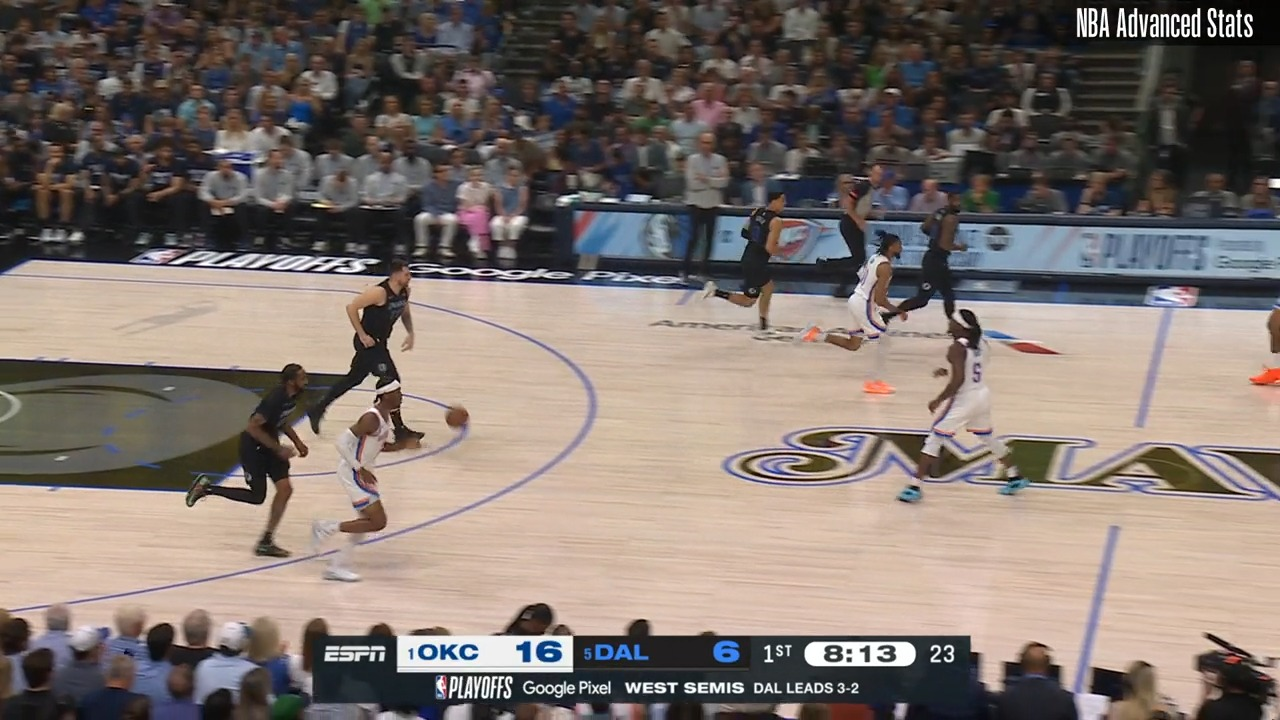basketball: (444, 403, 473, 434)
